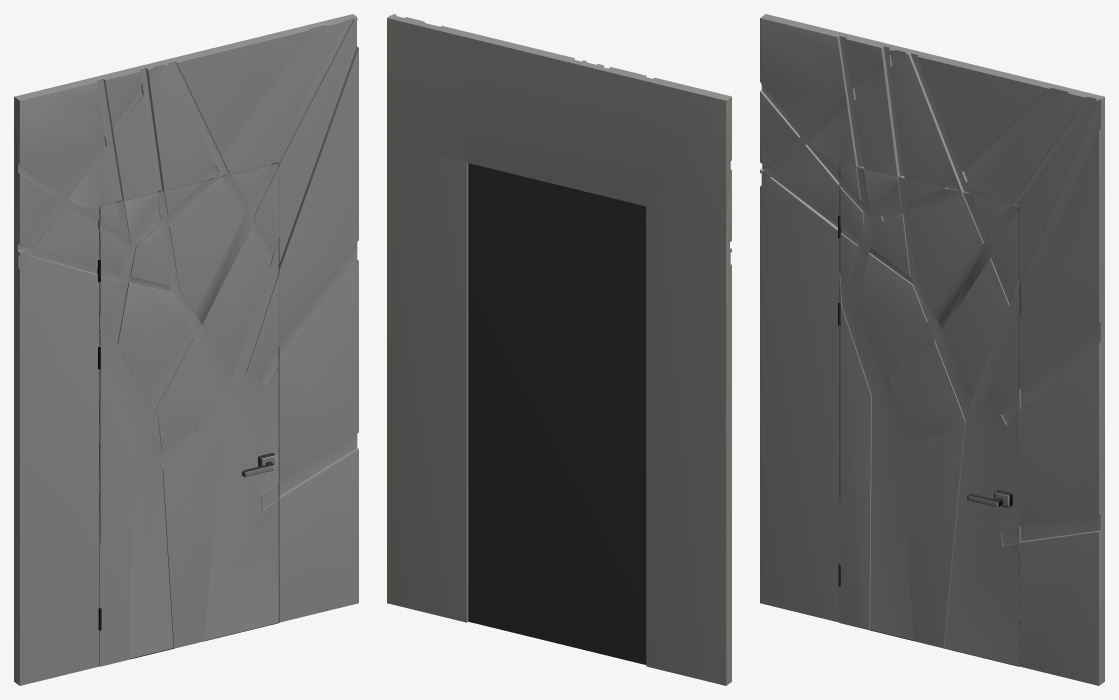
Rendered from invisible_door (1).glb.
3 views of the same model, side by side, from view 1: azimuth 30°, elevation 25°; view 2: azimuth 150°, elevation 25°; view 3: azimuth 330°, elevation 25° (orthographic).
Visible parts, largest first — view 1: Plane_Baked, Circle.001; view 2: Plane_Baked, Circle.001; view 3: Plane_Baked, Circle.001.
Part boxes in pixels (<box>): Plane_Baked: <box>14,14,358,685</box>; Circle.001: <box>97,162,279,666</box>; Plane_Baked: <box>387,14,731,685</box>; Circle.001: <box>468,163,646,664</box>; Plane_Baked: <box>760,14,1104,685</box>; Circle.001: <box>838,163,1021,666</box>.
Size of the model in its own units: 1.7 by 2.8 by 0.1255.
Materials: 2 (2 with a texture image).
